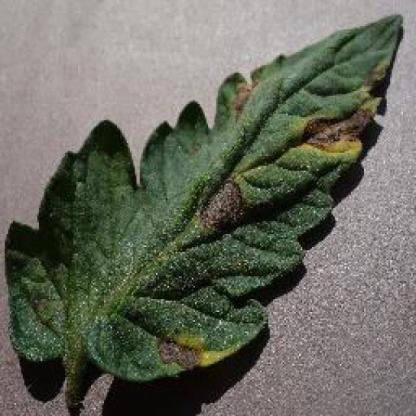Tomato_Blight: (9, 16, 401, 380)
